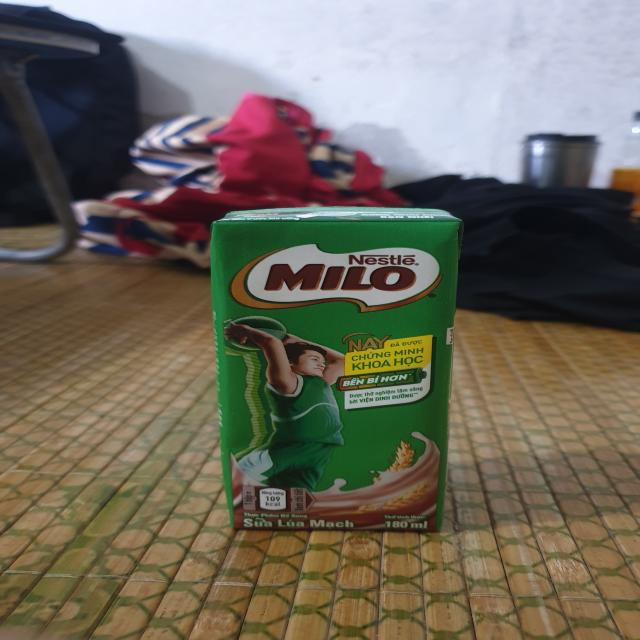Milo: (204, 208, 464, 535)
